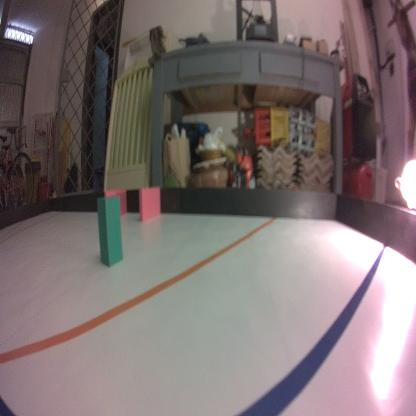green: (95, 193, 124, 266)
magenta: (138, 184, 162, 223)
